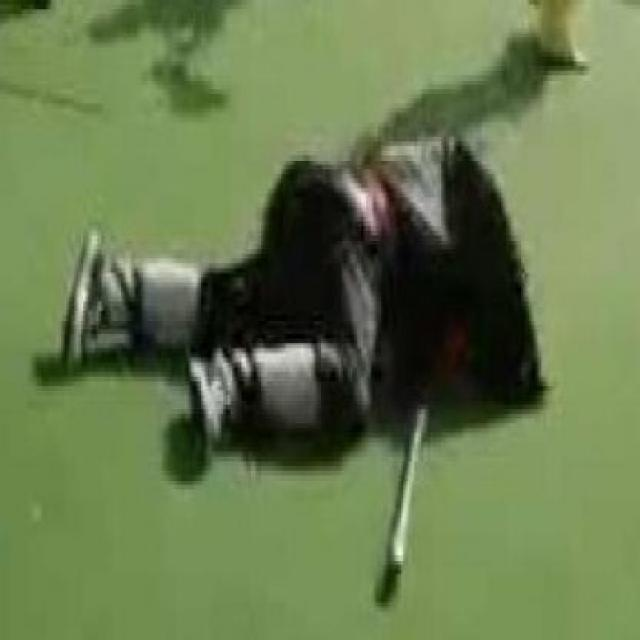fall: (26, 75, 548, 480)
